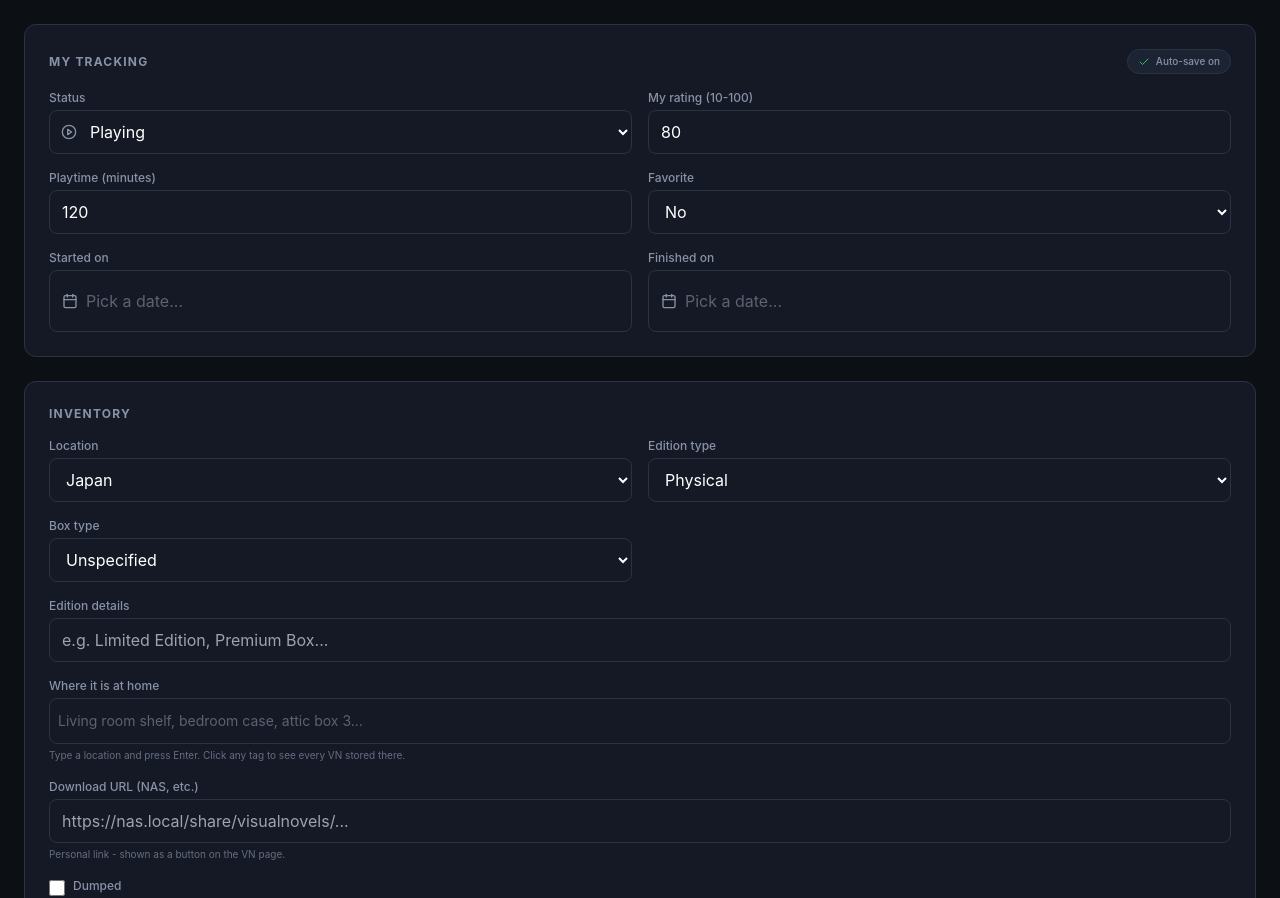
Scenario: EditForm autosave side effects (fake timers) › clears a pending field when the payload becomes invalid before autosave
This screenshot has width=1280, height=898.
Select "Completed" in the dropdown showing "Playing" at (340, 132), box x1=49 y1=110 x2=632 y2=154
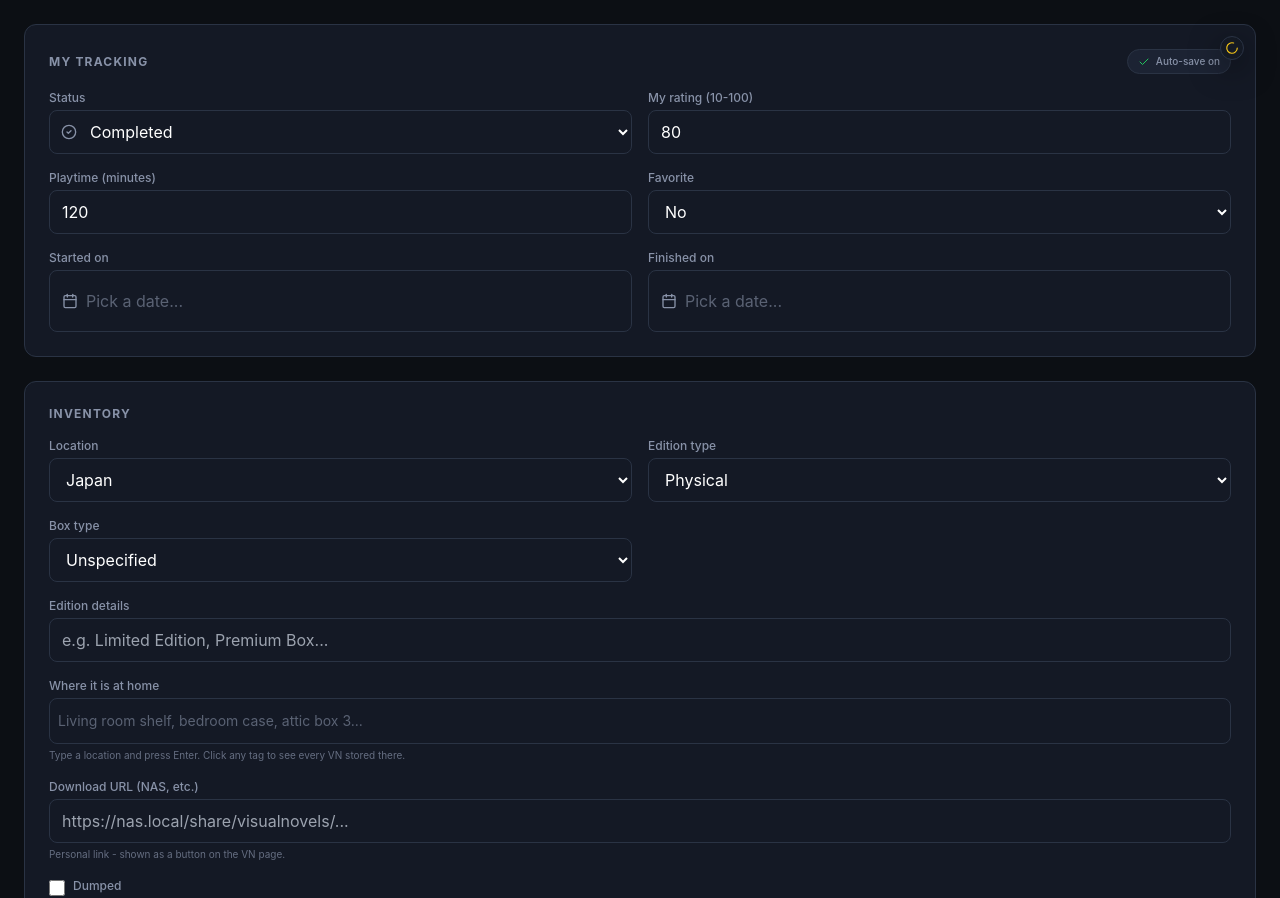
Expected: the message named "Saving..." is shown, x1=1220 y1=36 x2=1244 y2=60
Replace the text in the number field showing "120" with "-1" at (340, 212), box x1=49 y1=190 x2=632 y2=234
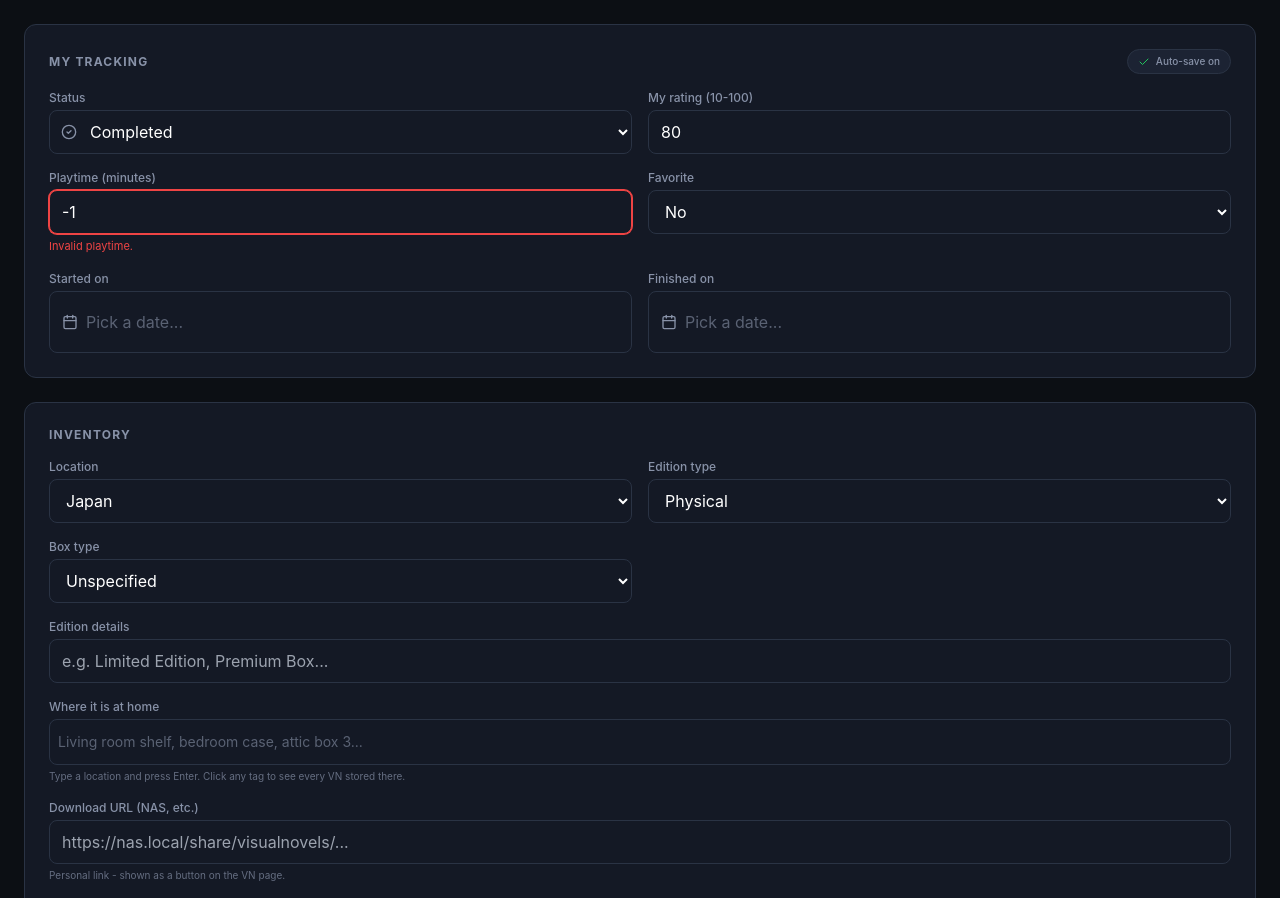
Expected: the message "Saving..." is gone
